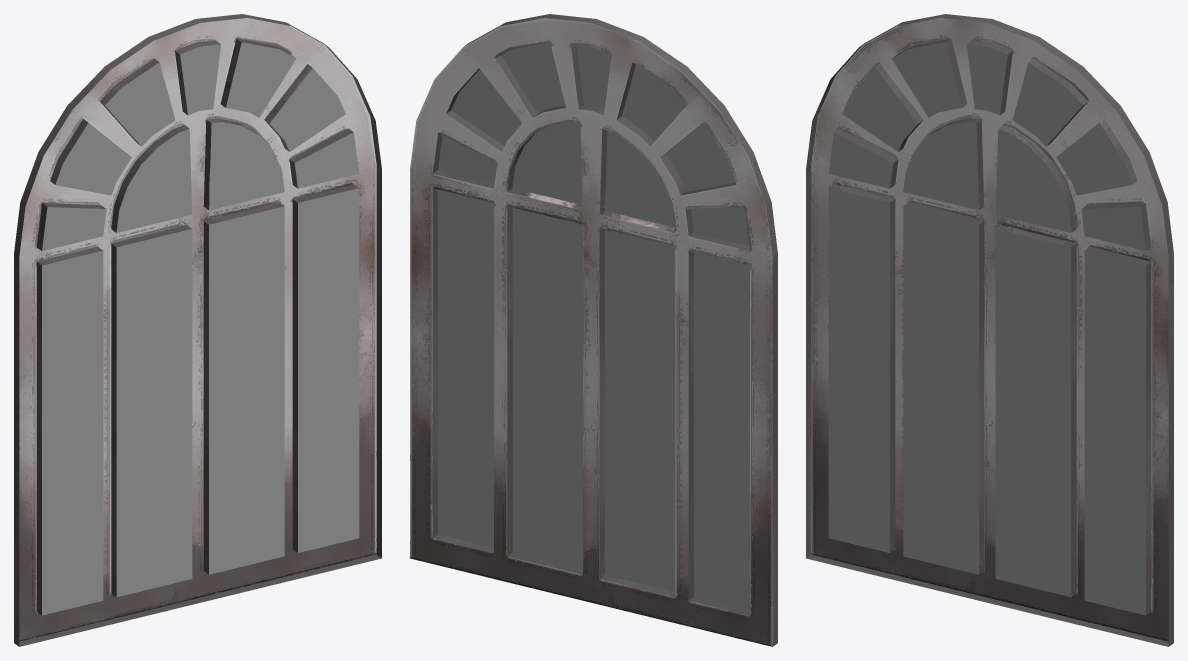
The model's file is BGMD_Windows.fbx.
3 views of the same model, side by side, from view 1: azimuth 30°, elevation 25°; view 2: azimuth 150°, elevation 25°; view 3: azimuth 330°, elevation 25° (orthographic).
Visible parts, largest first — view 1: BGMD_Frame, polySurface340, polySurface124, polySurface70, polySurface293, polySurface300, polySurface337, polySurface65, polySurface67, polySurface68, polySurface123, polySurface335 (+56 smaller); view 2: BGMD_Frame, polySurface340, polySurface124, polySurface293, polySurface70, polySurface300, polySurface65, polySurface337, polySurface68, polySurface67, polySurface335, polySurface123 (+49 smaller); view 3: BGMD_Frame, polySurface340, polySurface124, polySurface70, polySurface293, polySurface300, polySurface337, polySurface65, polySurface67, polySurface68, polySurface123, polySurface335 (+56 smaller).
Part boxes in pixels (x1,y1,x2,y2): BGMD_Frame: [14, 14, 381, 646]; polySurface340: [42, 345, 103, 495]; polySurface124: [227, 402, 284, 556]; polySurface70: [298, 404, 358, 548]; polySurface293: [127, 433, 191, 536]; polySurface300: [127, 368, 192, 469]; polySurface337: [42, 504, 102, 614]; polySurface65: [298, 288, 359, 372]; polySurface67: [298, 338, 359, 411]; polySurface68: [298, 395, 359, 495]; polySurface123: [209, 402, 246, 551]; polySurface335: [42, 514, 103, 615]; BGMD_Frame: [410, 14, 777, 646]; polySurface340: [694, 341, 749, 487]; polySurface124: [512, 399, 569, 552]; polySurface293: [605, 429, 669, 532]; polySurface70: [438, 408, 493, 544]; polySurface300: [605, 364, 669, 465]; polySurface65: [438, 284, 493, 365]; polySurface337: [694, 500, 749, 602]; polySurface68: [438, 393, 493, 491]; polySurface67: [438, 334, 493, 407]; polySurface335: [694, 510, 749, 610]; polySurface123: [550, 398, 582, 547]; BGMD_Frame: [806, 14, 1173, 646]; polySurface340: [828, 298, 889, 418]; polySurface124: [1014, 425, 1071, 596]; polySurface70: [1084, 451, 1145, 604]; polySurface293: [914, 429, 978, 524]; polySurface300: [914, 364, 978, 434]; polySurface337: [828, 439, 889, 537]; polySurface65: [1084, 362, 1145, 420]; polySurface67: [1084, 415, 1145, 488]; polySurface68: [1084, 443, 1145, 573]; polySurface123: [996, 425, 1033, 564]; polySurface335: [829, 467, 889, 552].
Size of the model in its own units: 66.73 by 102 by 1.68.
